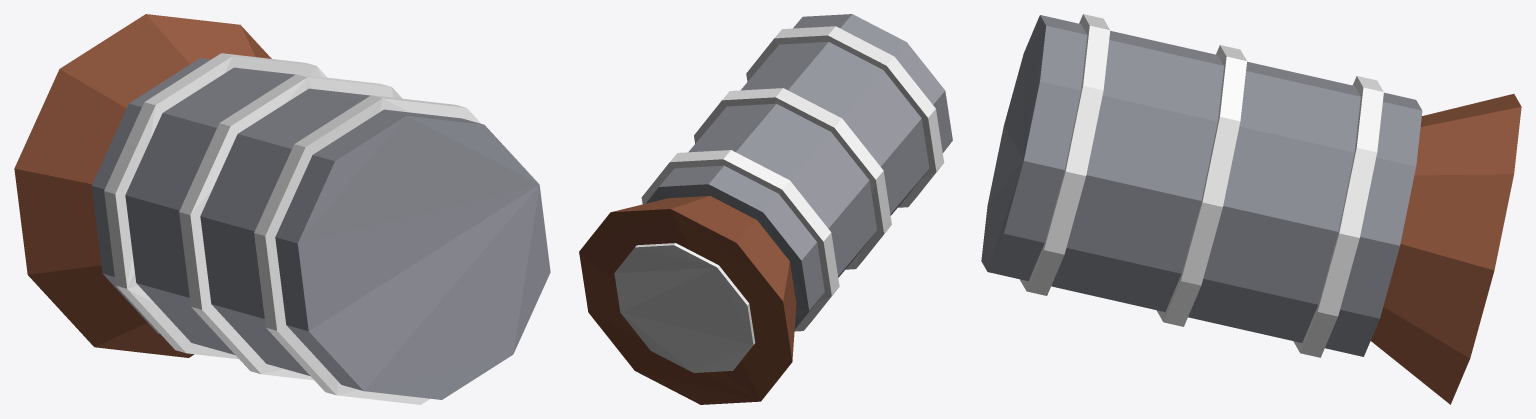
Rendered from Tech_Wreck_Engine.fbx.
3 views of the same model, side by side, from view 1: azimuth 30°, elevation 25°; view 2: azimuth 150°, elevation 25°; view 3: azimuth 270°, elevation 25° (orthographic). The views are drawn at different scales.
Visible parts, largest first — view 1: Tech_Wreck_Engine; view 2: Tech_Wreck_Engine; view 3: Tech_Wreck_Engine.
Boxes of the visible parts, bbox=[...] form: Tech_Wreck_Engine: bbox=[14, 14, 550, 404]; Tech_Wreck_Engine: bbox=[579, 14, 952, 404]; Tech_Wreck_Engine: bbox=[981, 14, 1521, 404].
Bounding box in the file's own units: 4.37 × 5.73 × 7.66.
